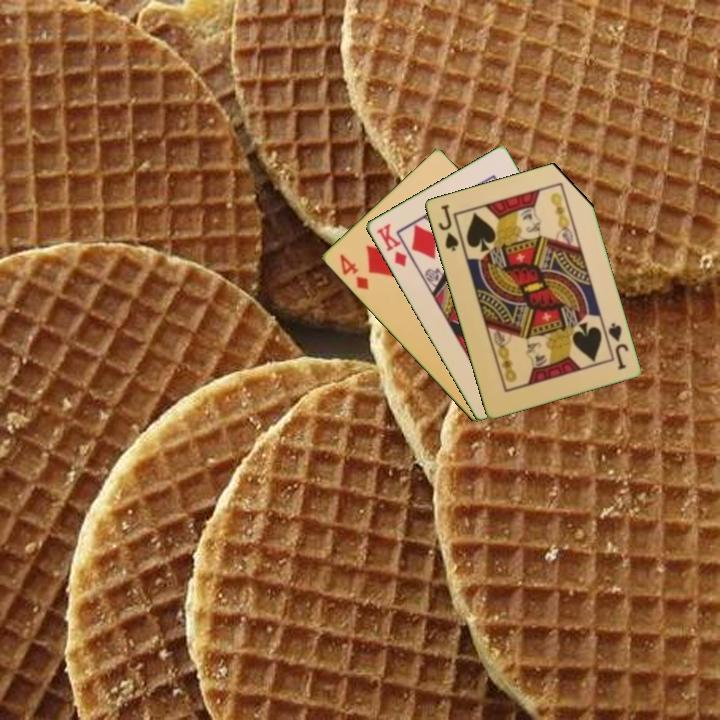4d: (336, 250, 371, 293)
Js: (600, 319, 631, 372), (434, 200, 461, 254)
Kd: (372, 220, 409, 270)
